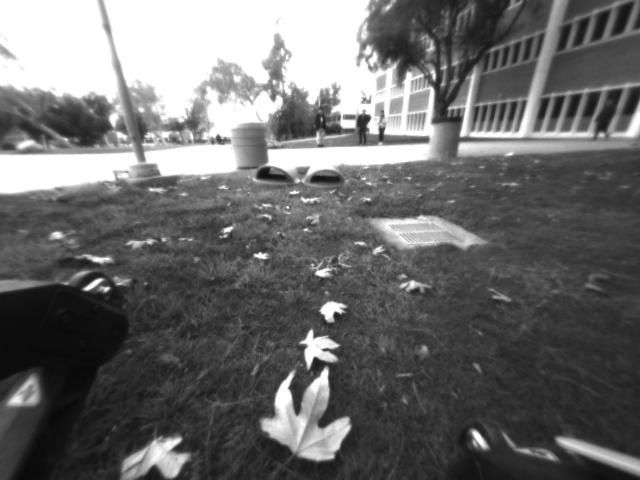trashcan: (227, 119, 276, 171), (426, 116, 463, 173)
